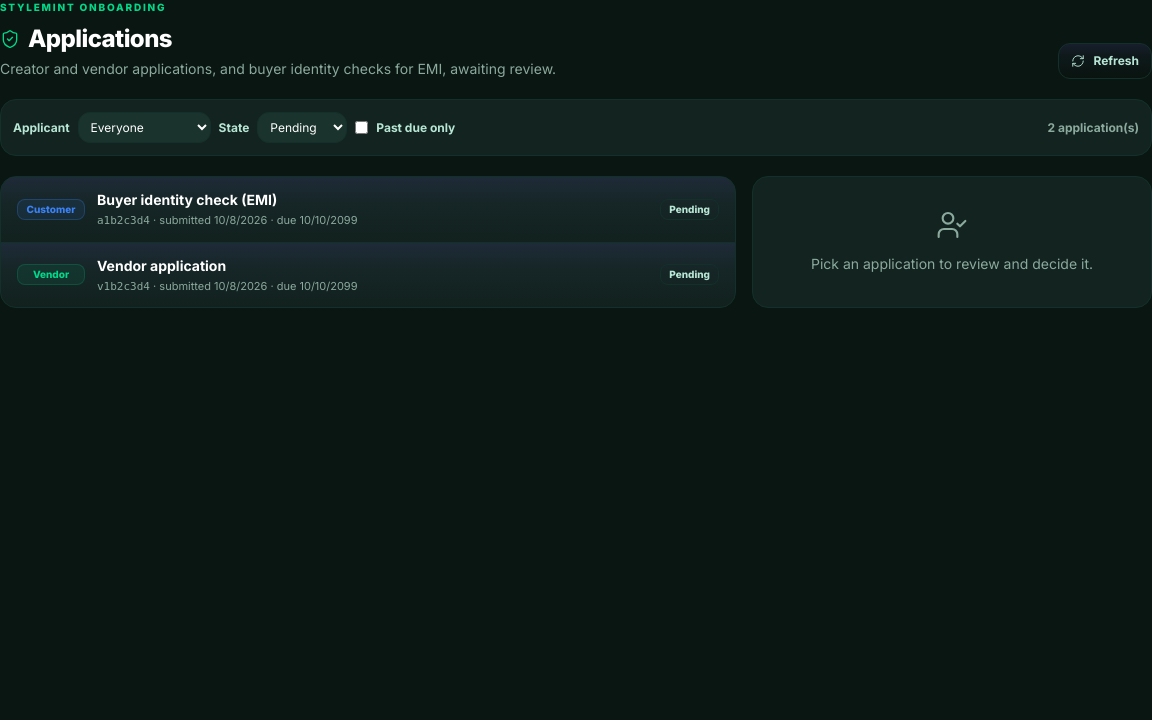
KycReviewPage — buyer identity checks › flags a buyer under 18
The width and height of the screenshot is (1152, 720).
Click the text "Buyer identity check (EMI)" at (187, 200), box 97,191 -> 277,208
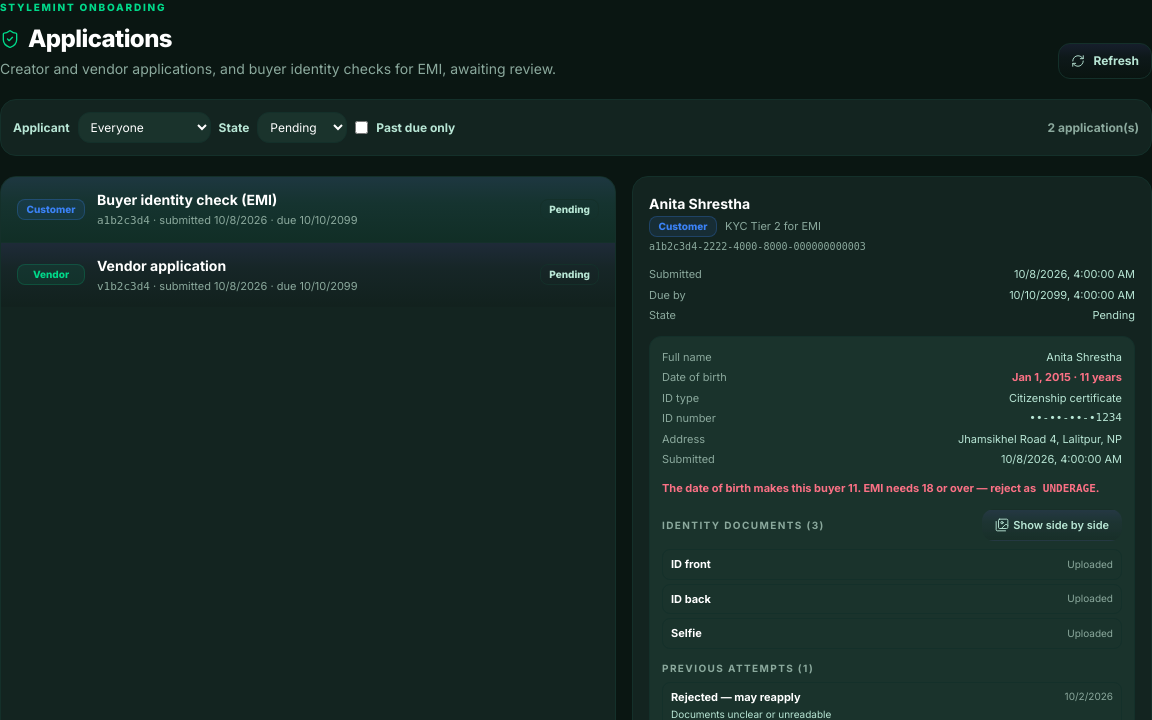
expect the text "EMI needs 18 or over" is shown: met, box 858,481 -> 1036,495
